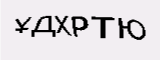А: (39, 22, 53, 39)
У: (91, 25, 108, 41)
Э: (106, 22, 122, 42)
Ю: (56, 19, 74, 39), (76, 22, 91, 42)
